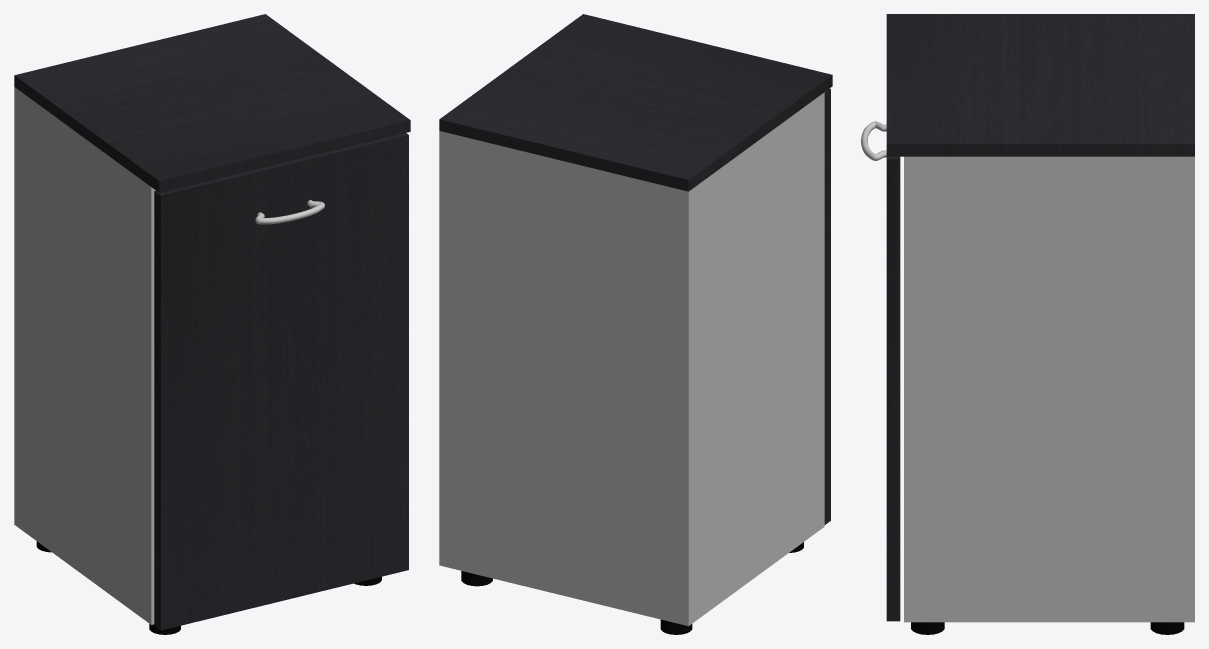
The model's file is sweethome3d-lucapresidente-bookcase-45x80.glb.
3 views of the same model, side by side, from view 1: azimuth 30°, elevation 25°; view 2: azimuth 150°, elevation 25°; view 3: azimuth 270°, elevation 25° (orthographic). The views are drawn at different scales.
Parts seen in each view (by area): view 1: Box59_4, Box61_8, Box60_7, Line43_2; view 2: Box61_8, Box60_7, Box59_4; view 3: Box61_8, Box60_7, Box59_4, Line43_2.
Boxes of the visible parts, x1=… form: Box59_4: x1=154, y1=133, x2=408, y2=630; Box61_8: x1=14, y1=87, x2=155, y2=624; Box60_7: x1=14, y1=14, x2=410, y2=192; Line43_2: x1=255, y1=200, x2=324, y2=224; Box61_8: x1=439, y1=92, x2=824, y2=626; Box60_7: x1=439, y1=14, x2=832, y2=191; Box59_4: x1=824, y1=88, x2=830, y2=524; Box61_8: x1=904, y1=156, x2=1194, y2=622; Box60_7: x1=886, y1=14, x2=1194, y2=156; Box59_4: x1=886, y1=156, x2=900, y2=621; Line43_2: x1=861, y1=121, x2=886, y2=160.
Size of the model in its own units: 45 by 80 by 48.75.
Materials: 3 (1 with a texture image).
